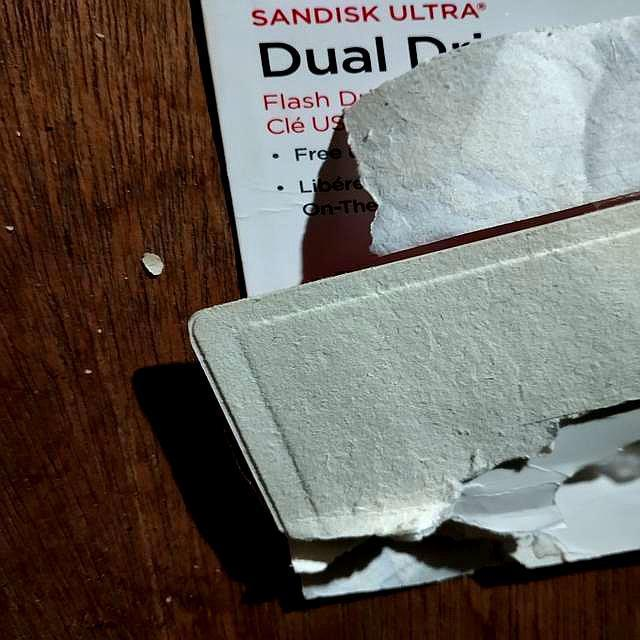Biodegradable: (195, 1, 640, 597)
